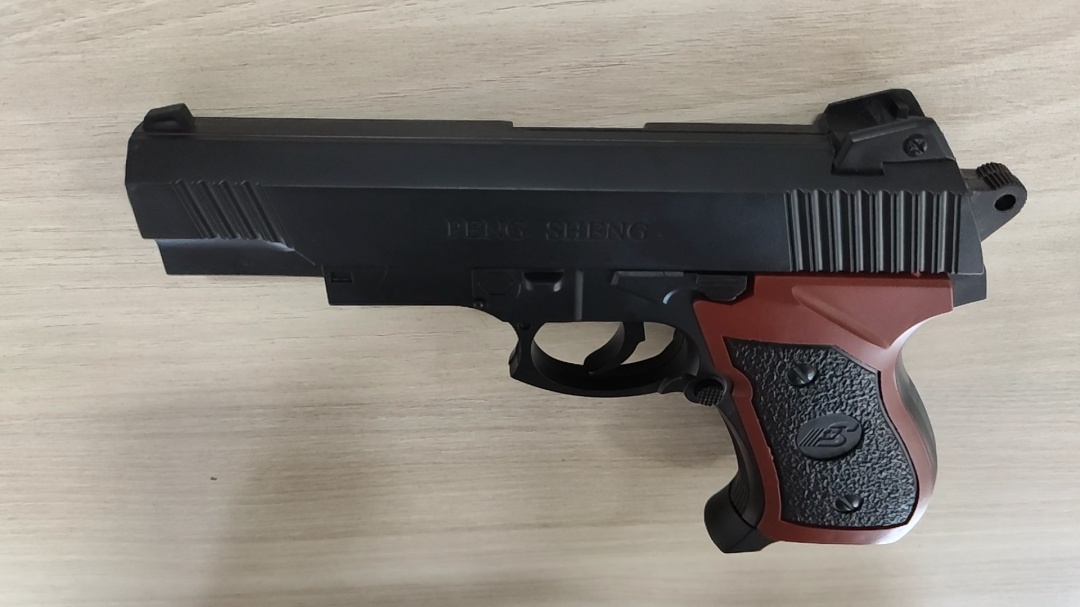gunw: (125, 85, 1027, 561)
